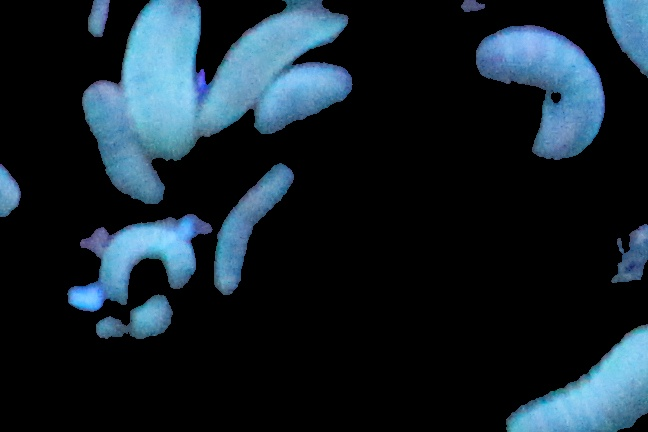larvae: (198, 13, 351, 145), (476, 23, 607, 161), (507, 318, 648, 432), (121, 1, 198, 166), (74, 82, 170, 204), (215, 166, 294, 300), (104, 227, 194, 329), (251, 64, 351, 141), (102, 296, 184, 341)
